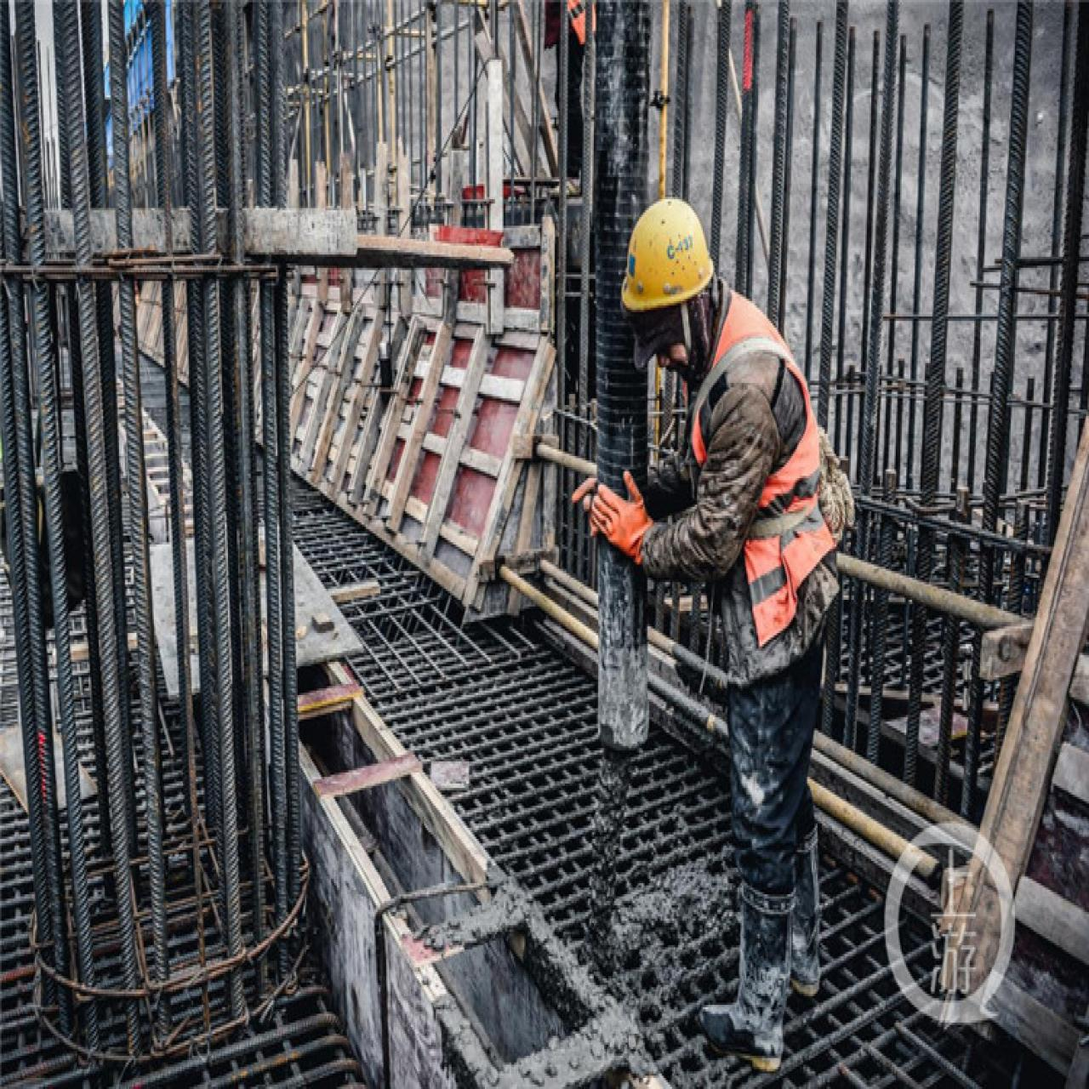Person: (556, 177, 871, 1071)
Safety_Vest: (664, 297, 851, 673)
